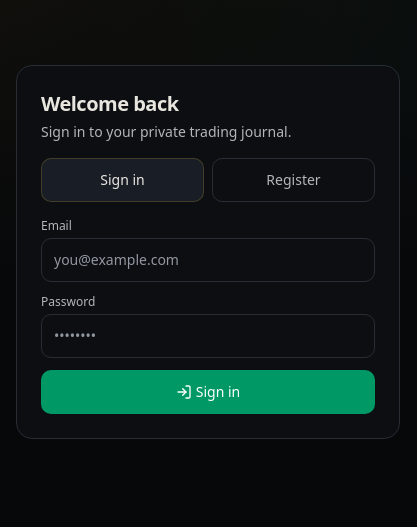
Scenario: LoginPage › registers with confirm match and shows policy errors
Click the button "Register" at (294, 180), box [212,158,375,202]
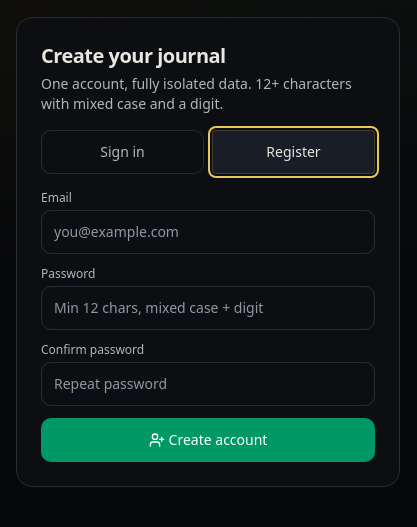
Type "new@example.com" into the field labelled "Email" at (208, 232), box [41,210,375,254]
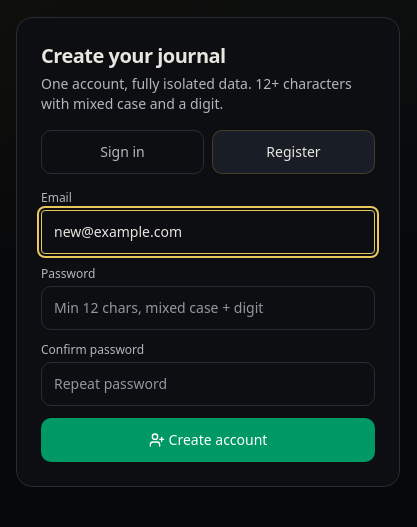
Type "weak" into the password field labelled "Password" at (208, 308), box [41,286,375,330]
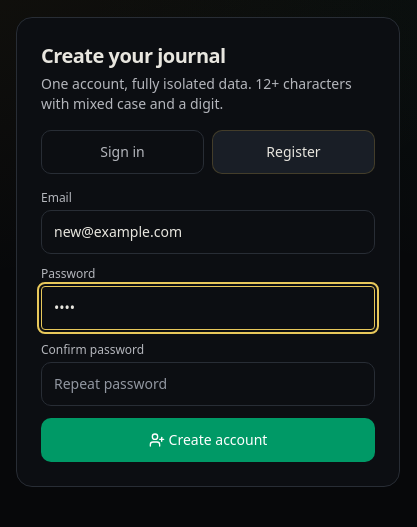
Click the button "Create account" at (208, 440), box [41,418,375,462]
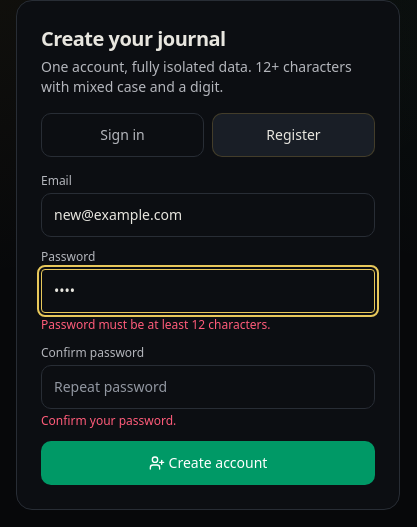
Expected: the text "Password must be at least 12 characters." is shown, [41,316,270,333]
